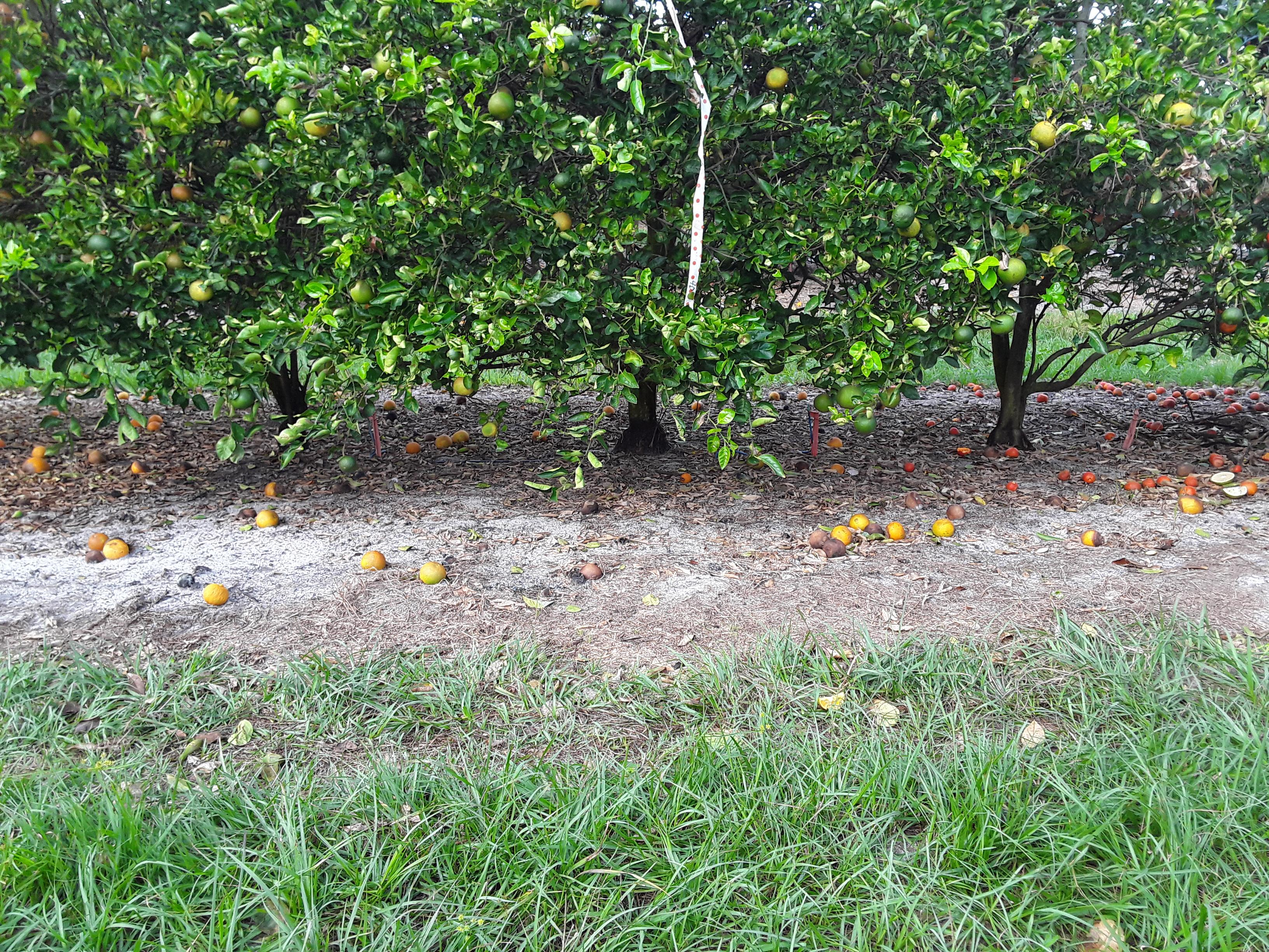fruit_on_ground: (991, 256, 1033, 288), (1164, 100, 1204, 131), (536, 52, 573, 85), (223, 384, 260, 415), (831, 382, 870, 410), (486, 88, 521, 117), (365, 135, 397, 165), (890, 199, 923, 228), (893, 217, 926, 246), (1031, 119, 1065, 147), (273, 93, 302, 124), (874, 384, 903, 414), (360, 229, 390, 258), (233, 106, 266, 132), (767, 69, 798, 95), (21, 128, 55, 151), (986, 312, 1017, 337), (944, 324, 976, 348), (1138, 195, 1166, 222), (1219, 311, 1249, 336), (850, 412, 881, 436), (593, 0, 631, 19), (84, 231, 115, 254), (548, 168, 575, 194), (554, 29, 582, 54), (891, 15, 923, 36), (347, 285, 377, 307), (187, 280, 215, 303), (366, 54, 396, 75), (157, 252, 187, 273), (811, 390, 837, 413), (547, 210, 575, 231), (302, 119, 333, 137), (449, 374, 474, 395), (167, 183, 193, 203)
fruit_on_tree: (92, 537, 132, 565), (84, 533, 118, 557), (420, 558, 452, 583), (825, 523, 859, 545), (804, 522, 830, 550), (358, 551, 388, 574), (201, 584, 228, 609), (827, 542, 855, 561), (26, 450, 50, 472), (341, 453, 367, 473), (581, 561, 607, 580), (935, 516, 959, 536), (844, 515, 869, 534), (110, 388, 133, 408), (1179, 495, 1203, 514), (252, 511, 276, 530), (889, 521, 911, 540), (1081, 528, 1104, 546), (79, 451, 103, 468), (127, 459, 146, 480), (1241, 383, 1263, 401), (823, 435, 845, 453), (1199, 381, 1218, 401), (124, 415, 148, 430), (1231, 456, 1249, 476), (1232, 399, 1253, 416), (899, 459, 920, 476), (1152, 469, 1173, 486), (1234, 480, 1257, 495), (138, 390, 157, 408), (489, 416, 508, 434), (1205, 452, 1225, 469), (1189, 390, 1210, 406), (141, 422, 164, 436), (1149, 419, 1170, 434), (444, 436, 466, 450), (257, 485, 279, 499), (1219, 402, 1237, 419), (1122, 478, 1140, 495), (1137, 416, 1156, 432), (1182, 472, 1201, 488), (599, 406, 619, 420), (407, 444, 427, 458), (1178, 485, 1198, 499), (947, 426, 965, 441), (1141, 475, 1156, 493), (1101, 426, 1117, 442), (1004, 479, 1020, 495), (145, 411, 163, 425), (1101, 379, 1115, 397), (675, 469, 694, 482), (794, 388, 809, 404), (1083, 475, 1103, 487), (682, 473, 700, 486), (689, 398, 708, 410), (766, 389, 781, 404), (1160, 397, 1175, 412), (1037, 390, 1054, 403), (1053, 468, 1070, 481), (690, 403, 708, 415), (1031, 390, 1050, 401), (1000, 449, 1019, 460), (1037, 395, 1053, 408), (1183, 384, 1195, 401), (528, 427, 545, 439), (1182, 384, 1196, 398), (1111, 383, 1123, 399), (924, 417, 937, 431), (382, 402, 397, 414), (835, 466, 851, 477), (1155, 383, 1169, 395), (1003, 446, 1019, 456), (974, 389, 986, 401), (1147, 391, 1159, 403), (944, 381, 956, 393), (954, 446, 968, 456), (1097, 375, 1107, 389), (972, 382, 986, 392), (1169, 413, 1185, 421), (1173, 391, 1183, 402), (966, 379, 974, 391)
